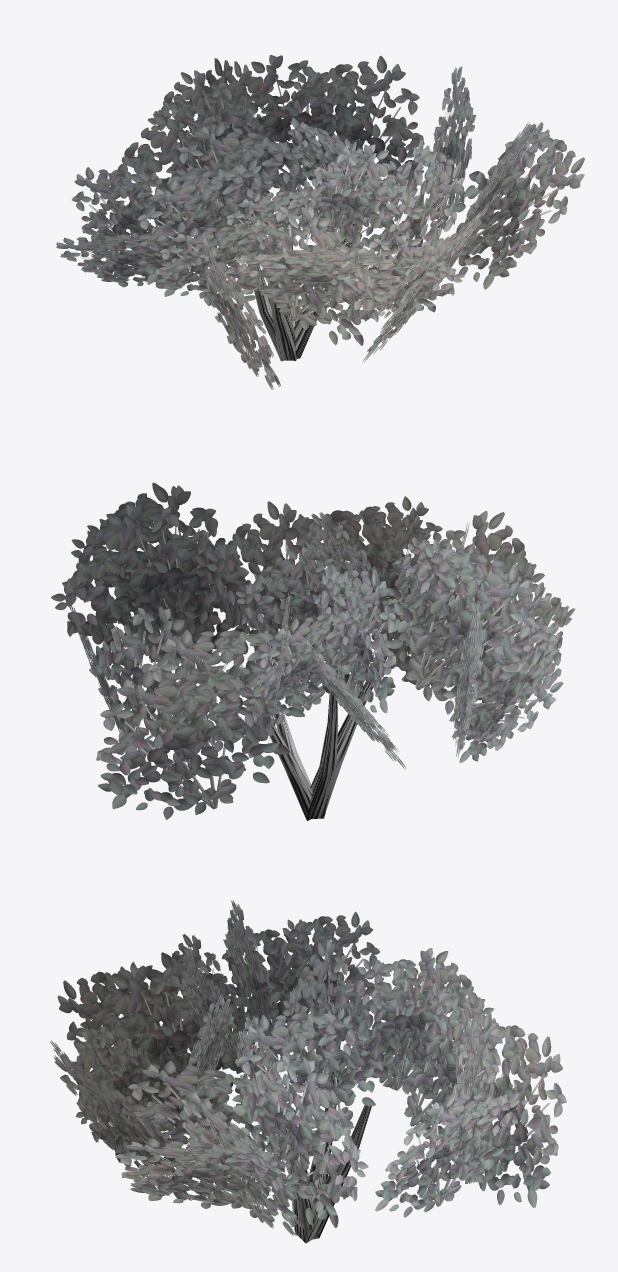
File: shrub_heath_l0.gltf
The picture shows the model from 3 angles, top to bottom: view 1: azimuth 30°, elevation 25°; view 2: azimuth 150°, elevation 25°; view 3: azimuth 270°, elevation 25°; orthographic projection. The views are drawn at different scales.
Parts seen in each view (by area): view 1: shrub_heath_l0; view 2: shrub_heath_l0; view 3: shrub_heath_l0.
Part boxes in pixels (<box>): shrub_heath_l0: <box>56,55,584,389</box>; shrub_heath_l0: <box>51,482,575,820</box>; shrub_heath_l0: <box>50,900,566,1243</box>.
Bounding box in the file's own units: 1.47 × 0.7997 × 1.38.
Materials: 2 (2 with a texture image).
